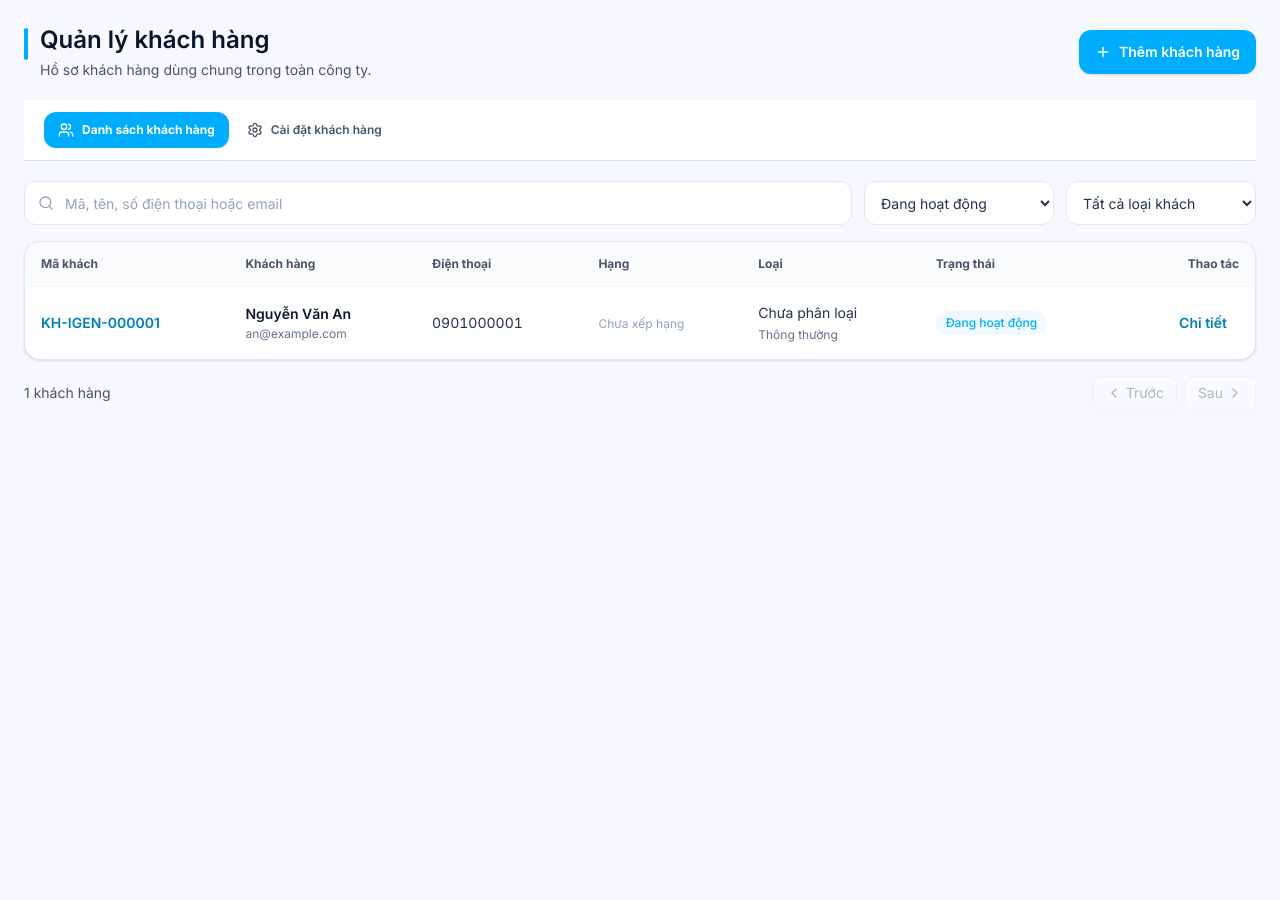
it: CustomerWorkspace › adds a VAT billing profile from the customer detail page
The image size is (1280, 900).
Check: the text "Nguyễn Văn An" is shown, box [246,305,351,322]
Click the button with aria-label "Chi tiết Nguyễn Văn An".
click(1203, 323)  # box [1167,307,1239,339]
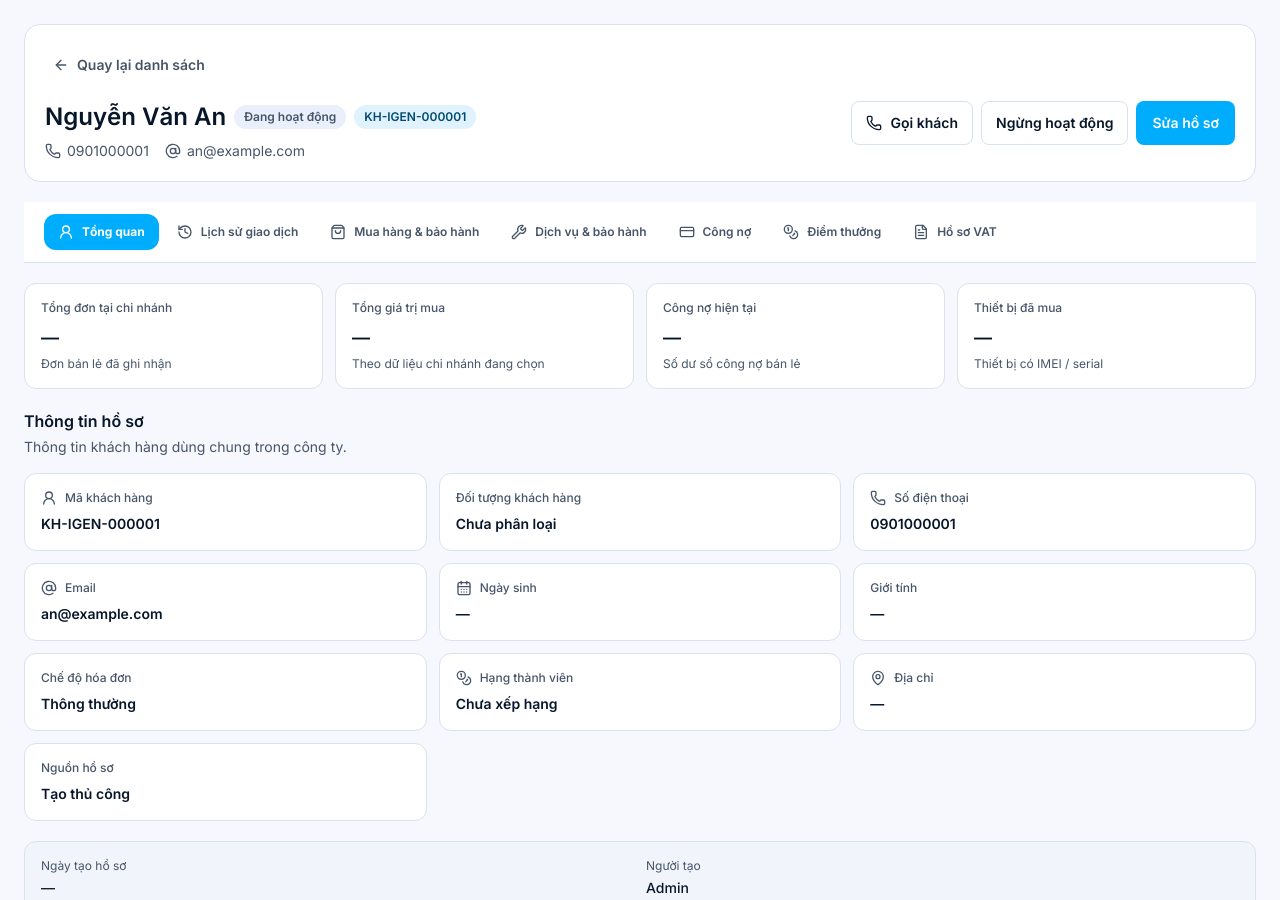
Check: the heading "Nguyễn Văn An" is shown, box [45,101,226,133]
Click the button "Hồ sơ VAT".
click(955, 232)  # box [899,214,1011,250]
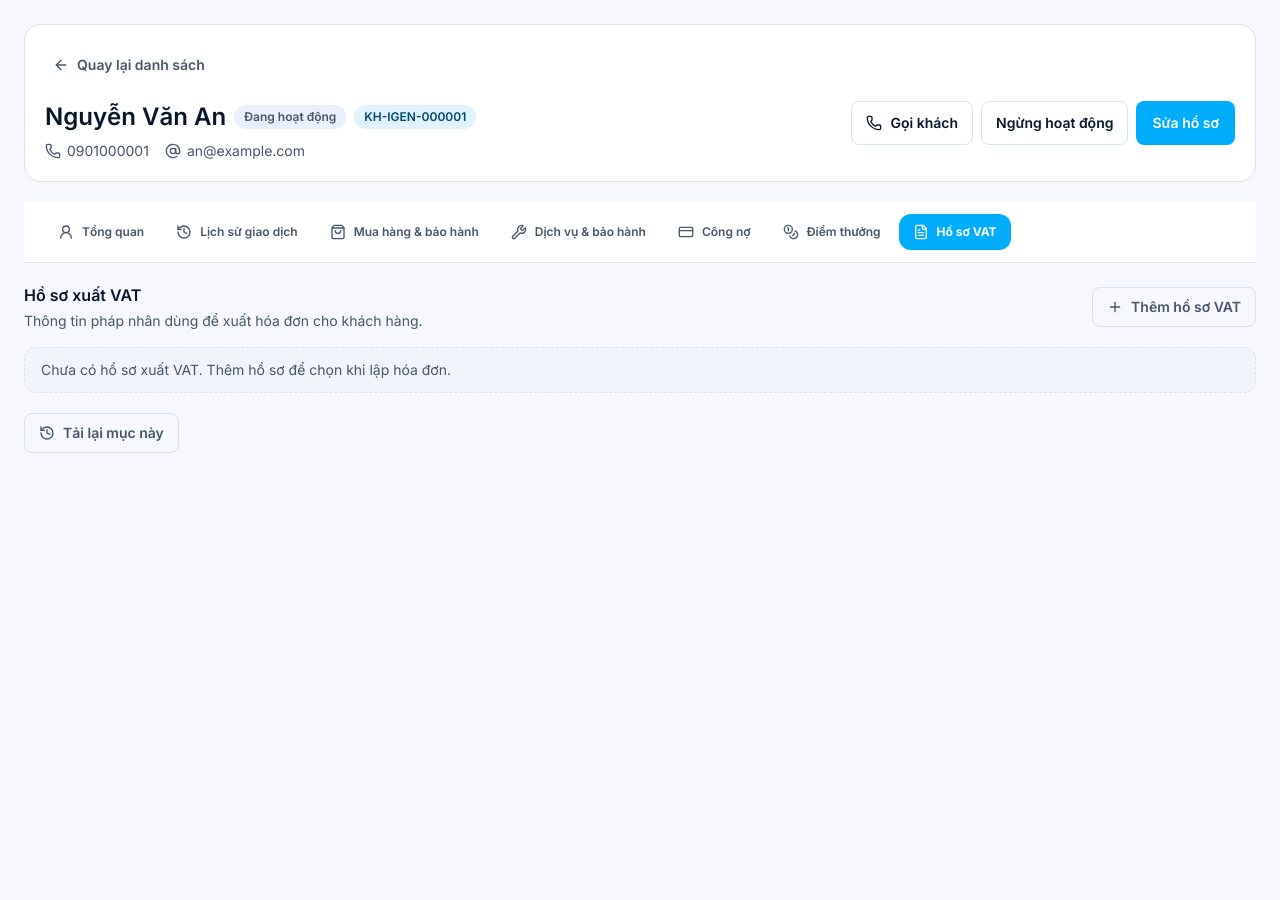
Click the button "Thêm hồ sơ VAT".
click(1174, 307)  # box [1092,287,1256,327]
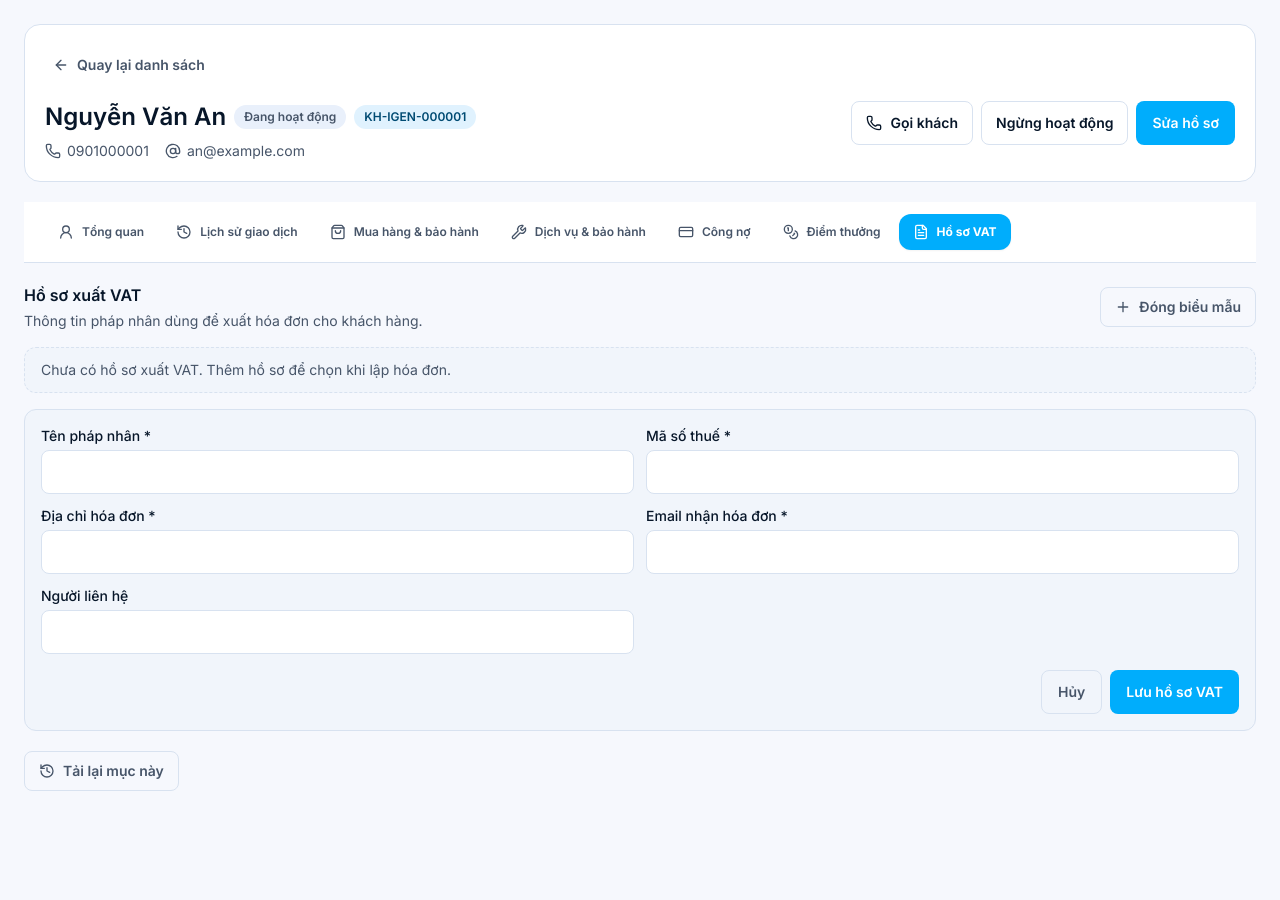
Type "Công ty An" into the field labelled "Tên pháp nhân *".
click(338, 472); type("Công ty An")  # box [41,450,634,494]
Type "0123456789" into the field labelled "Mã số thuế *".
click(942, 472); type("0123456789")  # box [646,450,1239,494]
Type "Hà Nội" into the field labelled "Địa chỉ hóa đơn *".
click(338, 552); type("Hà Nội")  # box [41,530,634,574]
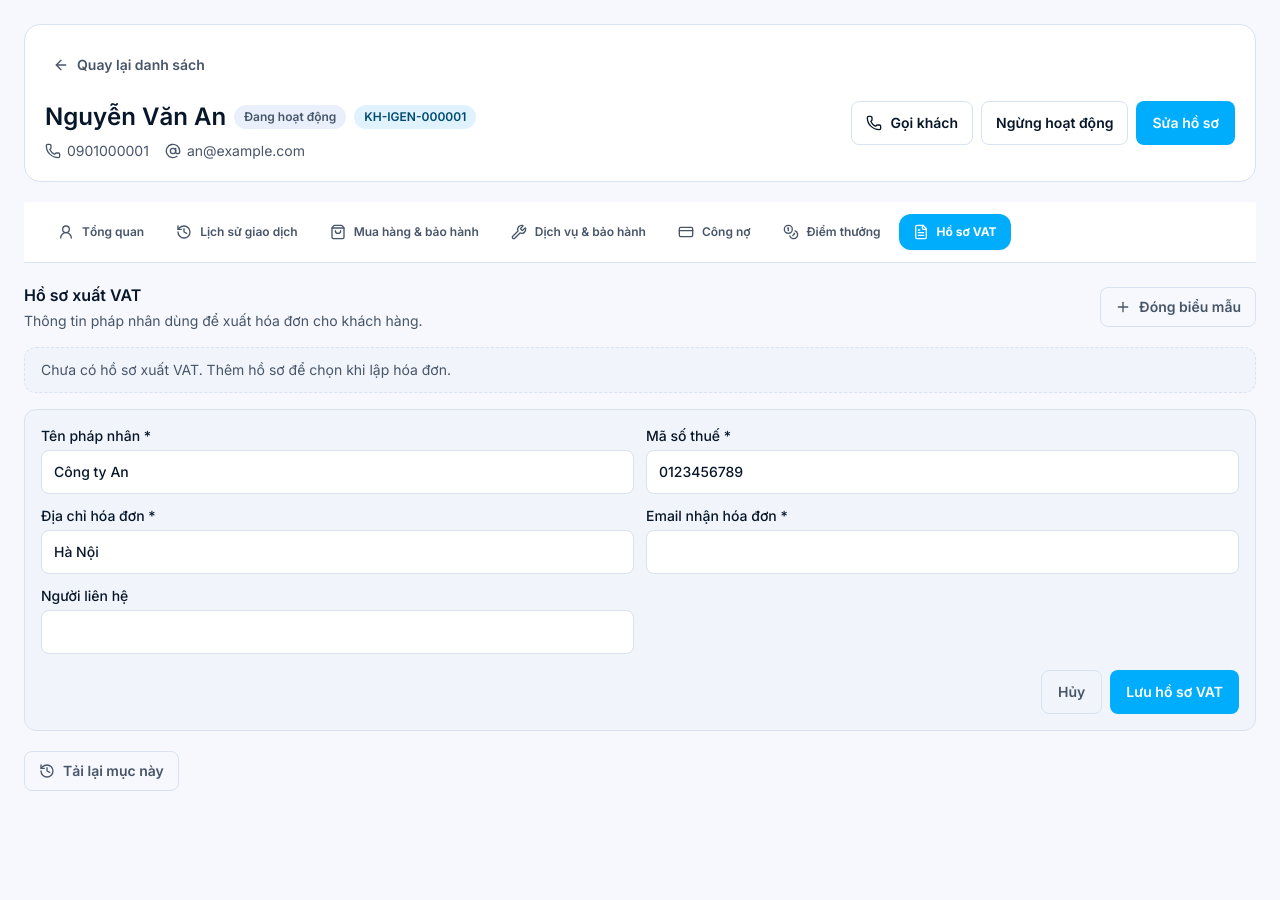
Type "invoice@example.com" into the field labelled "Email nhận hóa đơn *".
click(942, 552); type("invoice@example.com")  # box [646,530,1239,574]
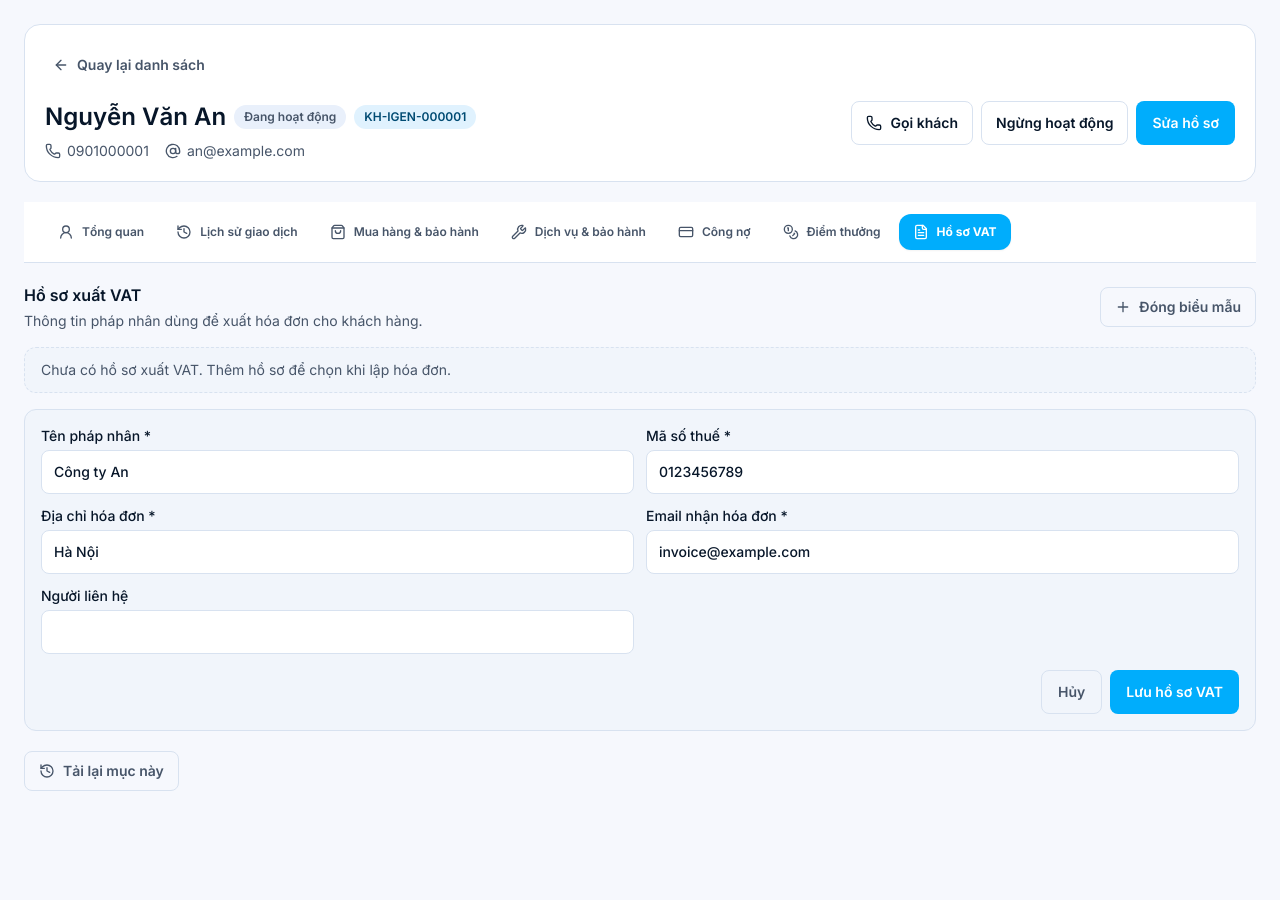
Click the button "Lưu hồ sơ VAT".
click(1175, 692)  # box [1110,670,1239,714]
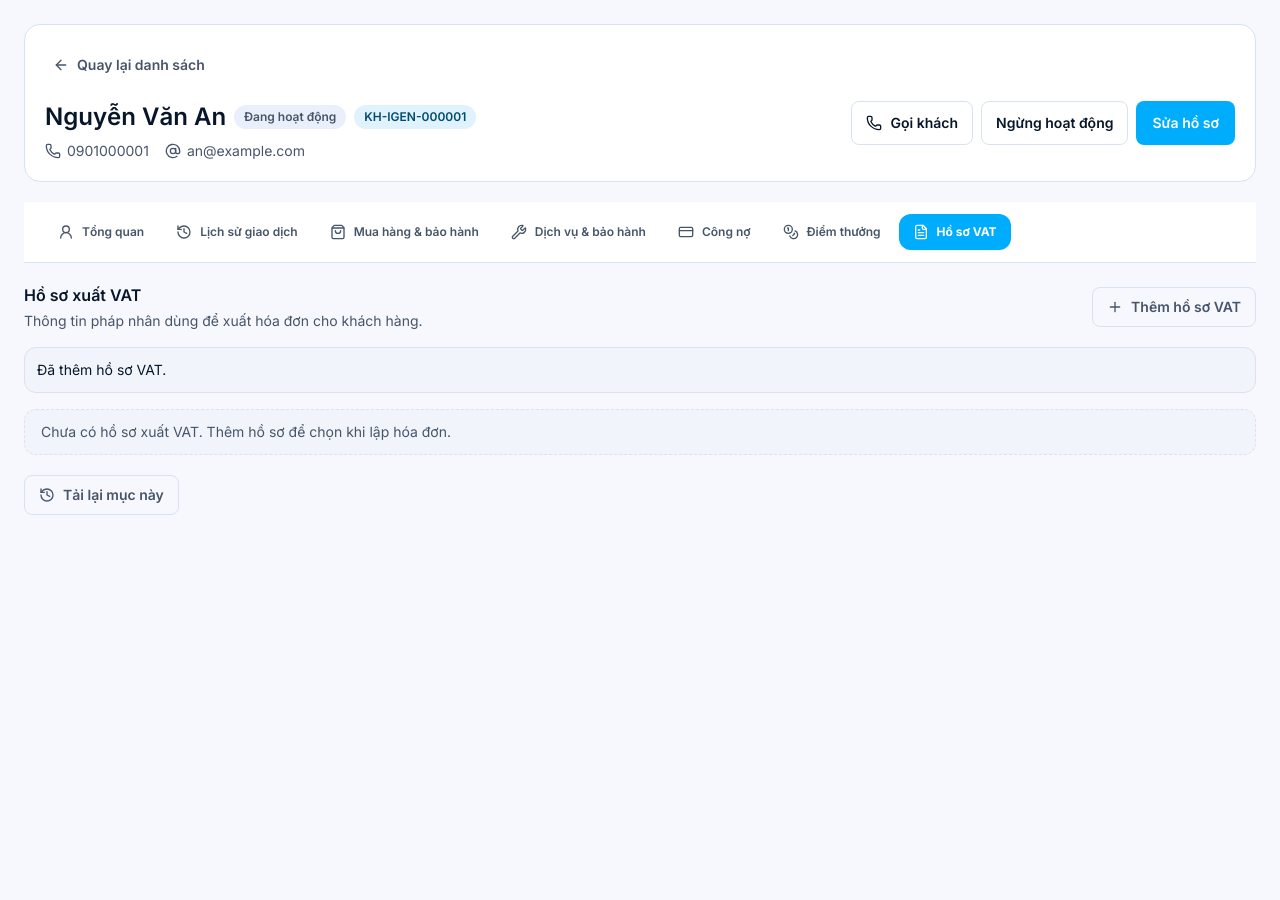
Check: the text "Đã thêm hồ sơ VAT." is shown, box [24,347,1256,393]
